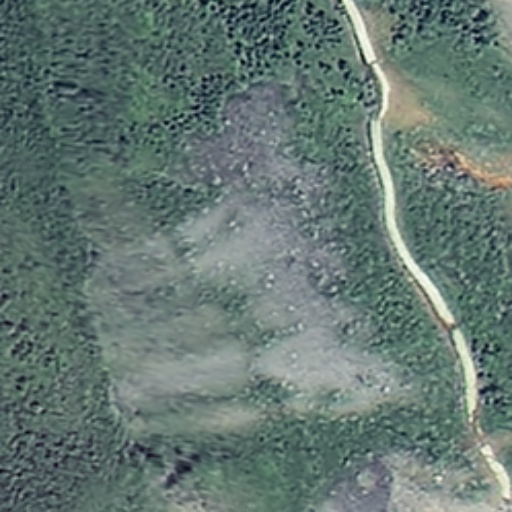landslide: (76, 146, 396, 437)
